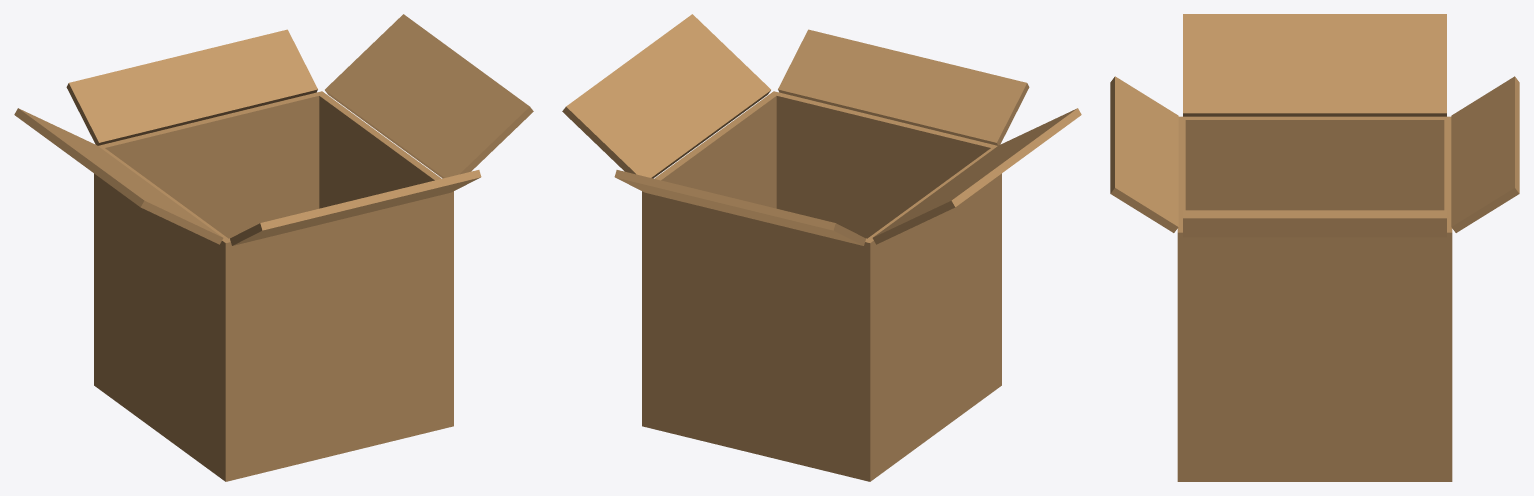
The model's file is sm_box_s_open.glb.
The picture shows the model from 3 angles, left to right: view 1: azimuth 30°, elevation 25°; view 2: azimuth 150°, elevation 25°; view 3: azimuth 270°, elevation 25°; orthographic projection. The views are drawn at different scales.
Visible parts, largest first — view 1: box_s_open_wall_y, box_s_open_wall_x, box_s_open_wall_y.001, box_s_open_flap_x.001, box_s_open_flap_y.001, box_s_open_wall_x.001, box_s_open_flap_x, box_s_open_flap_y, box_s_open_floor; view 2: box_s_open_wall_y.001, box_s_open_wall_x, box_s_open_wall_y, box_s_open_flap_x.001, box_s_open_flap_y, box_s_open_wall_x.001, box_s_open_flap_x, box_s_open_flap_y.001, box_s_open_floor; view 3: box_s_open_wall_x.001, box_s_open_flap_x, box_s_open_wall_x, box_s_open_flap_y, box_s_open_flap_y.001, box_s_open_flap_x.001, box_s_open_wall_y.001, box_s_open_wall_y, box_s_open_floor.
Part boxes in pixels (x1=…): box_s_open_wall_y: x1=222, y1=191, x2=453, y2=481; box_s_open_wall_x: x1=94, y1=147, x2=232, y2=480; box_s_open_wall_y.001: x1=94, y1=92, x2=324, y2=384; box_s_open_flap_x.001: x1=325, y1=14, x2=533, y2=178; box_s_open_flap_y.001: x1=66, y1=29, x2=317, y2=145; box_s_open_wall_x.001: x1=315, y1=91, x2=453, y2=353; box_s_open_flap_x: x1=14, y1=108, x2=223, y2=244; box_s_open_flap_y: x1=230, y1=170, x2=481, y2=245; box_s_open_floor: x1=94, y1=378, x2=453, y2=481; box_s_open_wall_y.001: x1=642, y1=191, x2=872, y2=481; box_s_open_wall_x: x1=863, y1=147, x2=1001, y2=479; box_s_open_wall_y: x1=770, y1=91, x2=1001, y2=384; box_s_open_flap_x.001: x1=562, y1=14, x2=770, y2=178; box_s_open_flap_y: x1=778, y1=29, x2=1029, y2=145; box_s_open_wall_x.001: x1=642, y1=91, x2=779, y2=320; box_s_open_flap_x: x1=872, y1=108, x2=1081, y2=244; box_s_open_flap_y.001: x1=614, y1=170, x2=865, y2=245; box_s_open_floor: x1=651, y1=378, x2=1001, y2=481; box_s_open_wall_x.001: x1=1177, y1=229, x2=1452, y2=481; box_s_open_flap_x: x1=1183, y1=14, x2=1446, y2=116; box_s_open_wall_x: x1=1178, y1=116, x2=1451, y2=210; box_s_open_flap_y: x1=1110, y1=76, x2=1178, y2=232; box_s_open_flap_y.001: x1=1451, y1=76, x2=1519, y2=232; box_s_open_flap_x.001: x1=1183, y1=210, x2=1446, y2=237; box_s_open_wall_y.001: x1=1444, y1=116, x2=1452, y2=477; box_s_open_wall_y: x1=1177, y1=117, x2=1185, y2=481; box_s_open_floor: x1=1177, y1=474, x2=1451, y2=481.
Size of what is drawn, in the model's own units: 0.6894 by 0.5004 by 0.5952.
